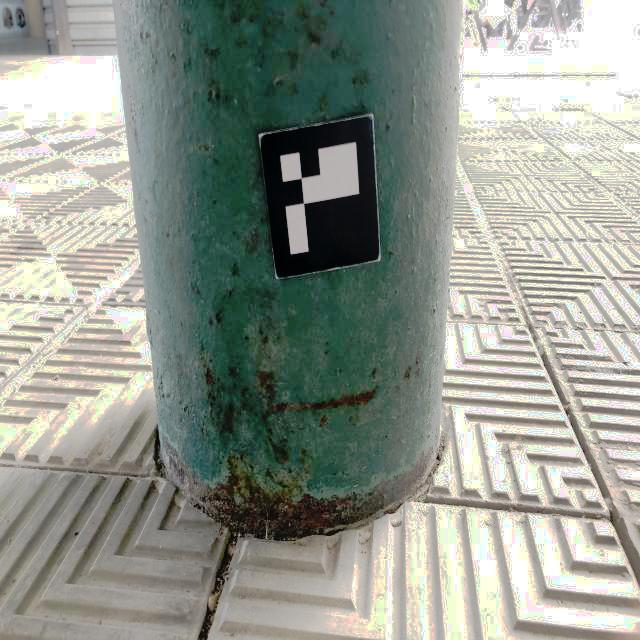Corrosion: (161, 434, 433, 538), (257, 371, 376, 413), (205, 368, 212, 384), (404, 367, 412, 379)
